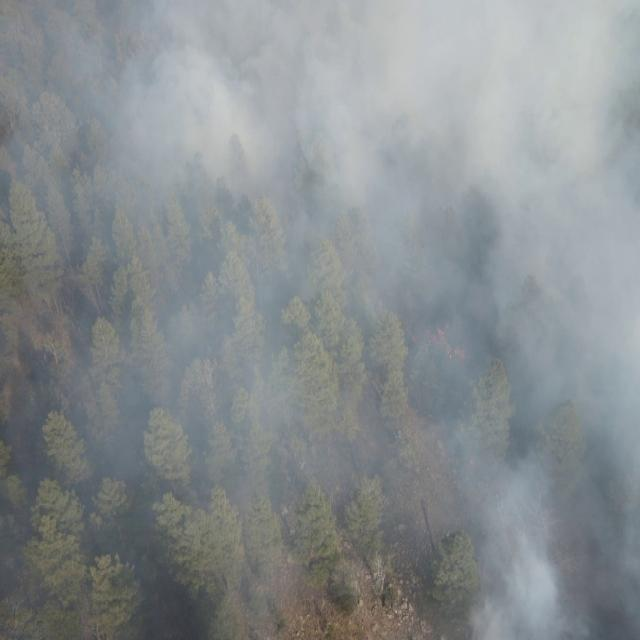fire: (428, 321, 468, 365), (409, 328, 420, 344)
smoke: (0, 0, 640, 640)
